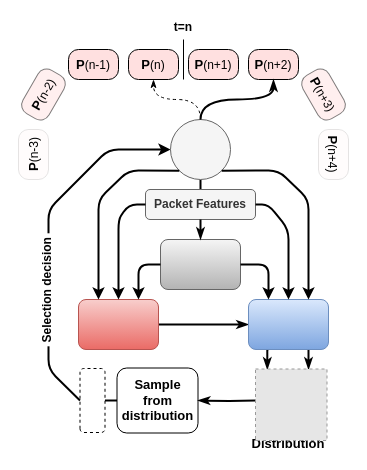
This 367x470 diagram has some shape labels left out. Grey dashed boxes stand in for pictures. The centre of each missing label's shape, as x and y in pixels:
Actor Network: (288,324)
Critic Network: (118,324)
LSTM Classifier: (200,264)
Packet Selector: (200,149)
Round: (92,400)
